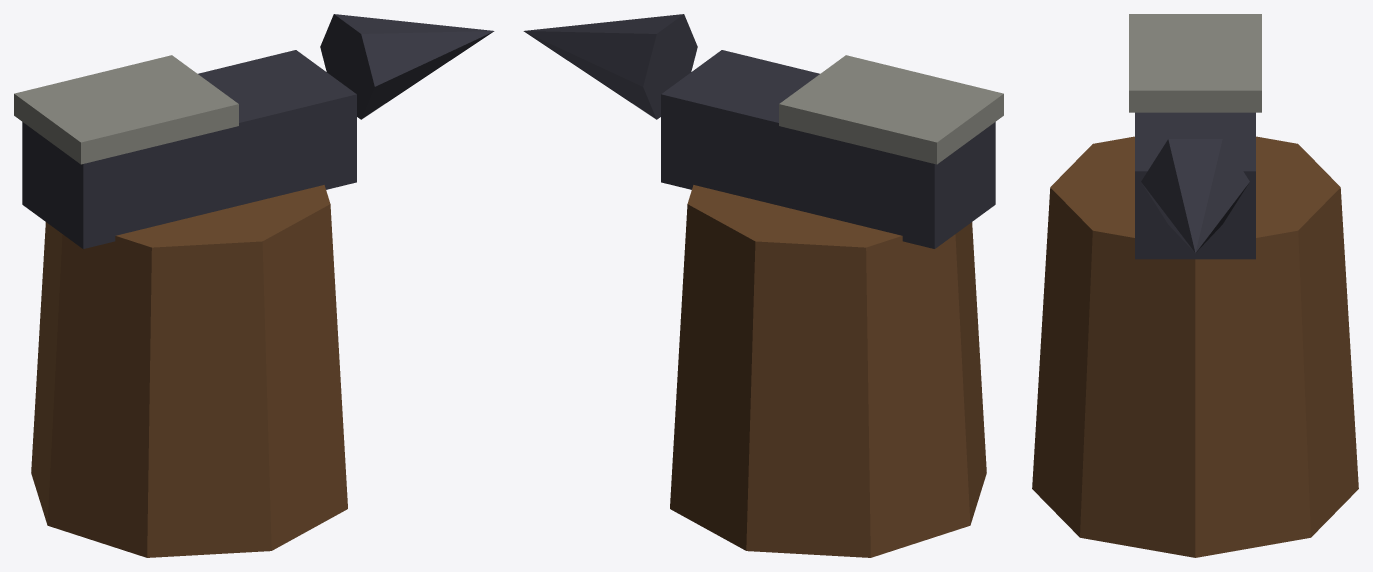
The model's file is prop_anvil.glb.
3 renders of one model, left to right at view 1: azimuth 30°, elevation 25°; view 2: azimuth 150°, elevation 25°; view 3: azimuth 270°, elevation 25°, orthographic.
Visible parts, largest first — view 1: prop_anvil; view 2: prop_anvil; view 3: prop_anvil.
Boxes of the visible parts, box(x1,y1,x2,y2) form: prop_anvil: box(14, 14, 494, 557); prop_anvil: box(523, 14, 1003, 557); prop_anvil: box(1032, 14, 1358, 557).
Bounding box in the file's own units: 0.85 × 0.7779 × 0.54.
